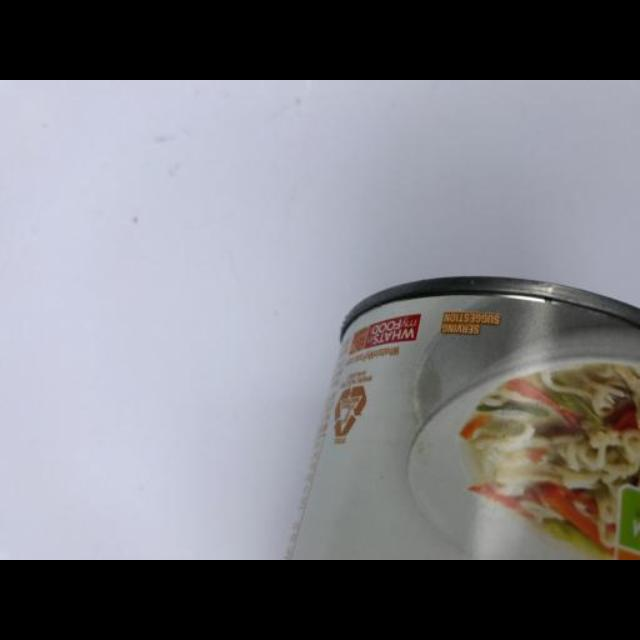lata: (288, 276, 640, 560)
